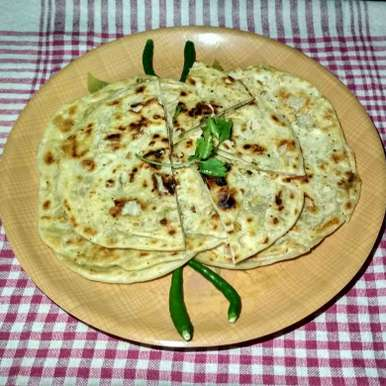aloo_paratha: (36, 61, 363, 283)
